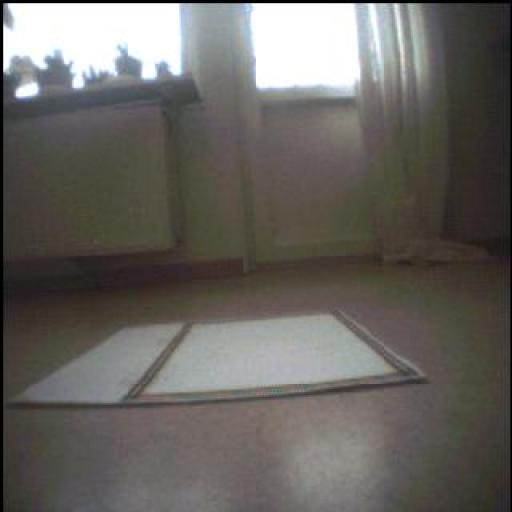Pad: (14, 304, 429, 412)
